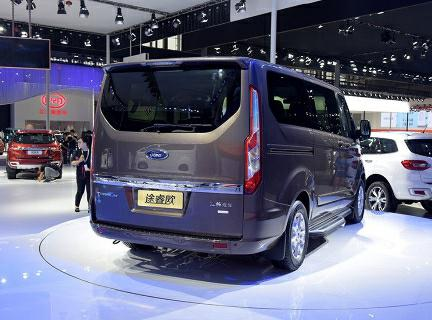福特-途睿欧: (84, 56, 373, 276)
